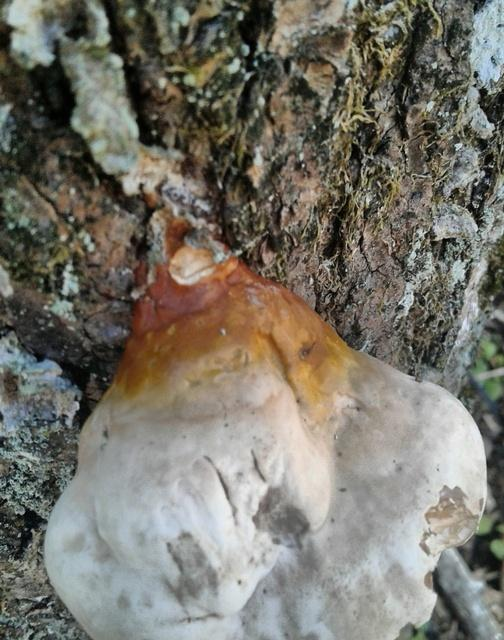poisonous_mushroom: (41, 209, 489, 639)
